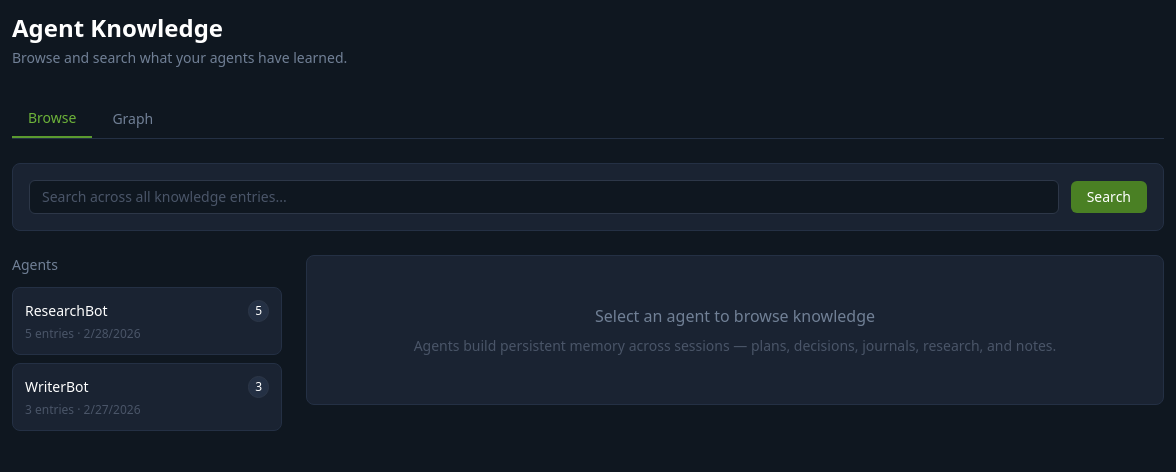
Test case: KnowledgeClient › shows an error, not "No entries found", when the entries fetch fails
This screenshot has width=1176, height=472.
Click the text "ResearchBot" at x=66, y=311, box [25, 301, 108, 321]
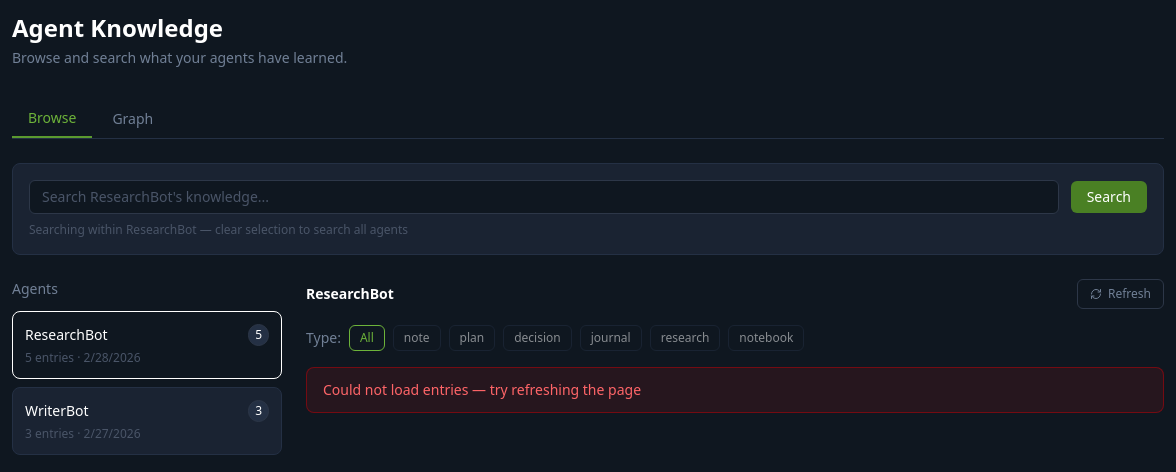
Expected: the element with test id "entries-error" is shown, [306, 367, 1164, 413]
Expected: the text "Could not load entries — try refreshing the page" is shown, [323, 380, 641, 399]
